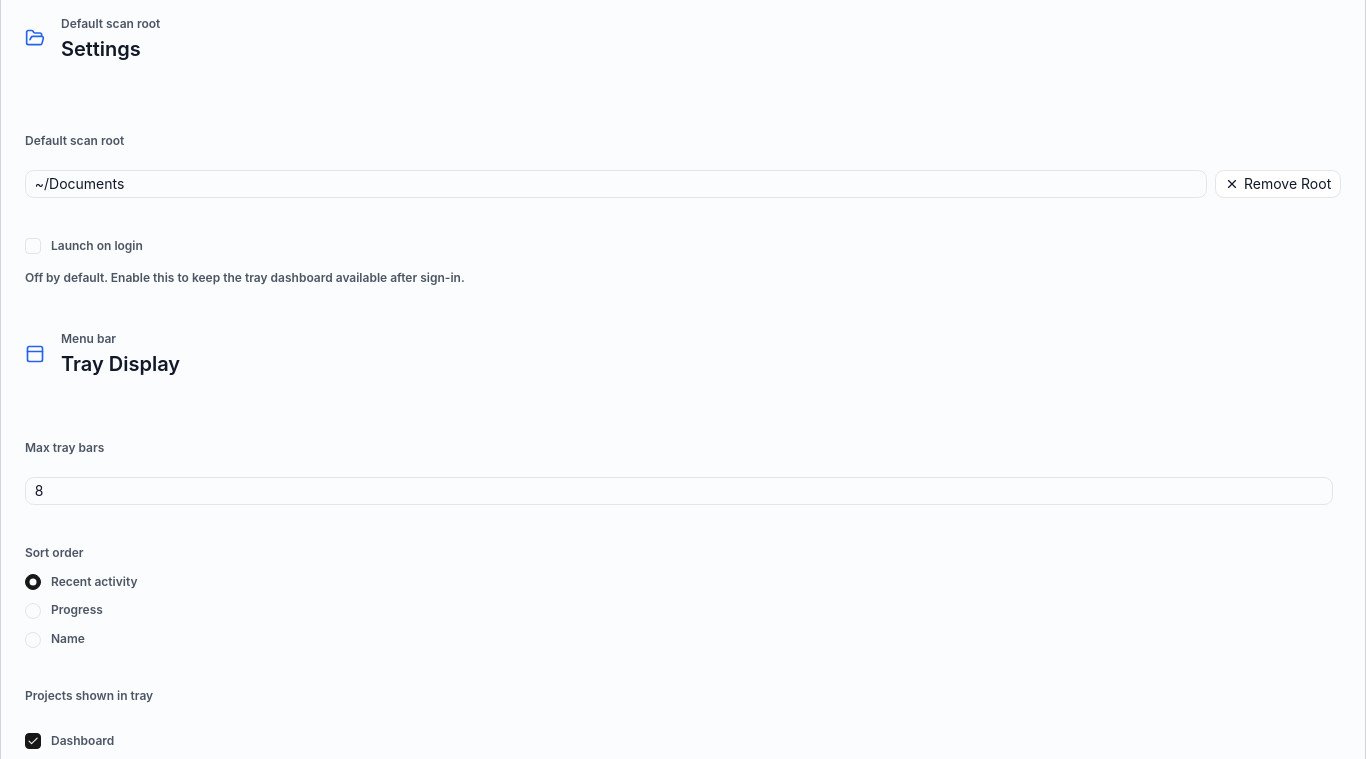
Scenario: ScanRootsEditor tray display settings › shows_autostart_error_copy_when_save_fails
Click the checkbox named "Launch on login" next to "Launch on login".
click(33, 246)  # box [25, 238, 41, 254]
(page scrolled)
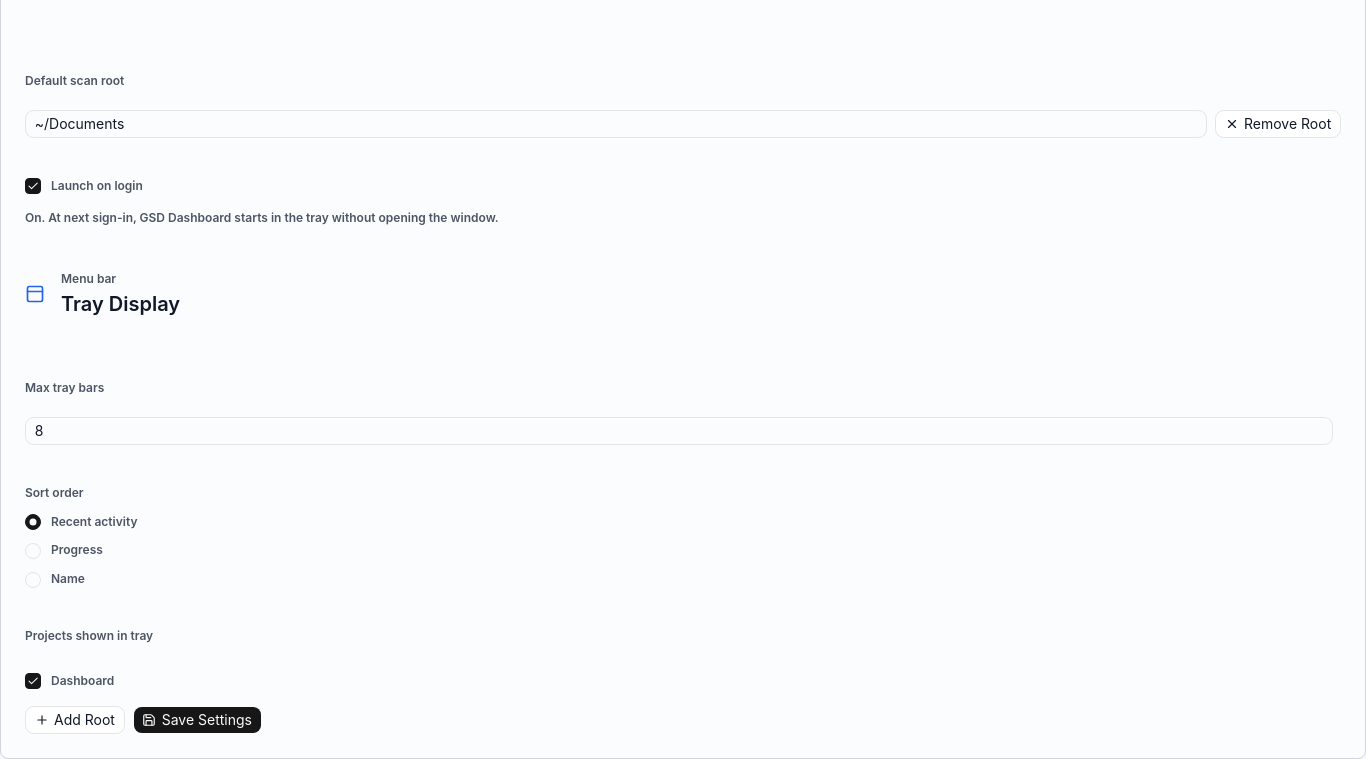
Click the button "Save Settings".
click(197, 720)  # box [133, 706, 262, 734]
(page scrolled)
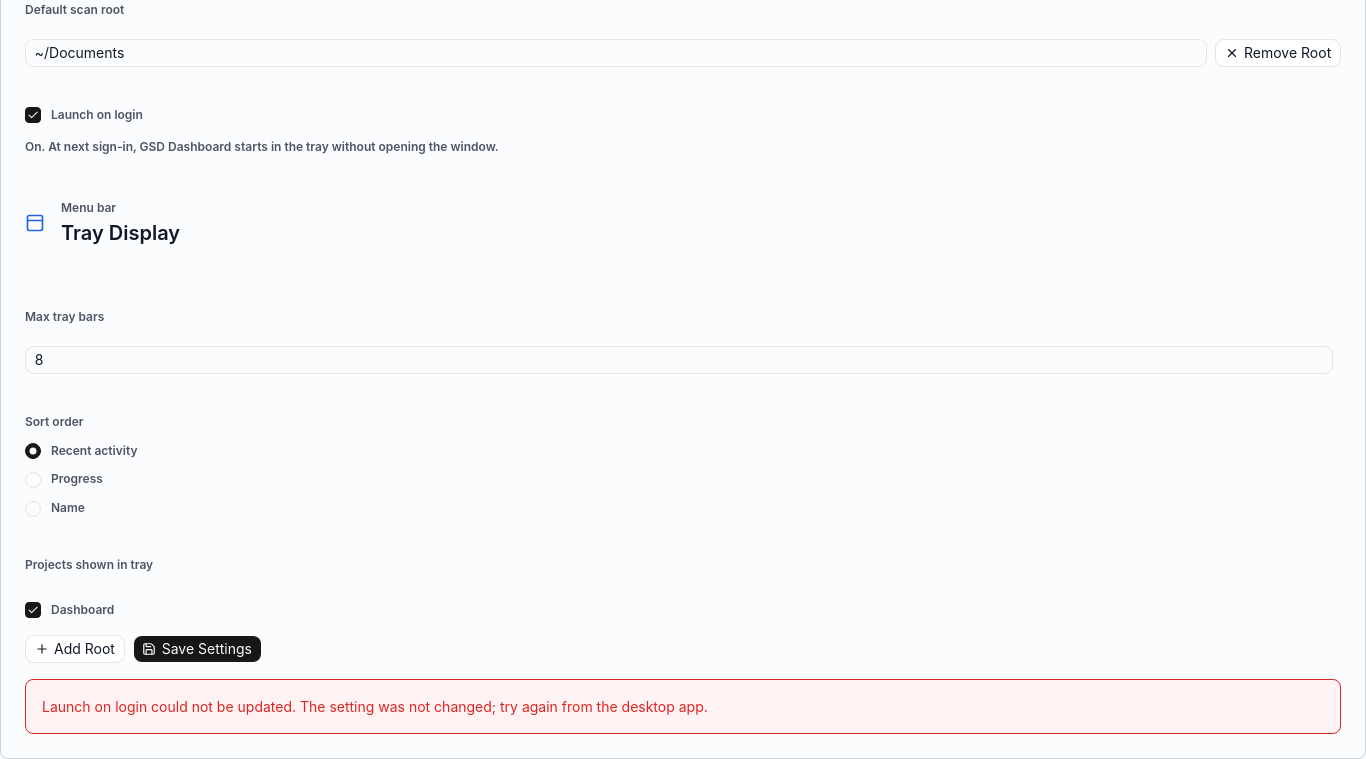
Check: the message shows "Launch on login could not be updated. The setting was not changed; try again from the desktop app.", box [42, 698, 708, 715]
